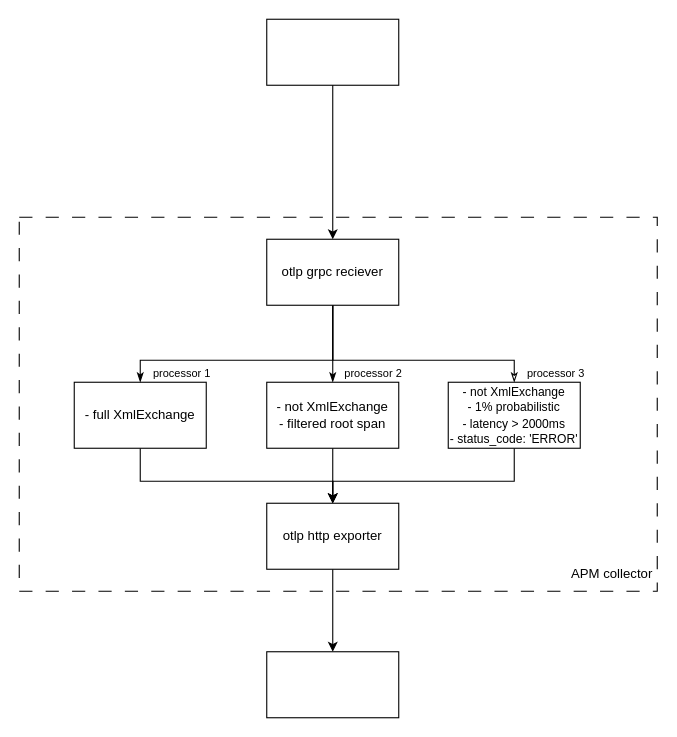
The diagram is 677 pixels wide and 737 high, and some of its shapes have lost their labels. The shapes that lost their labels are listed below. From the top down, each one's centre as x and y in pixels, then its label:
At pixel 332 51: "service".
At pixel 332 684: "APM server".
